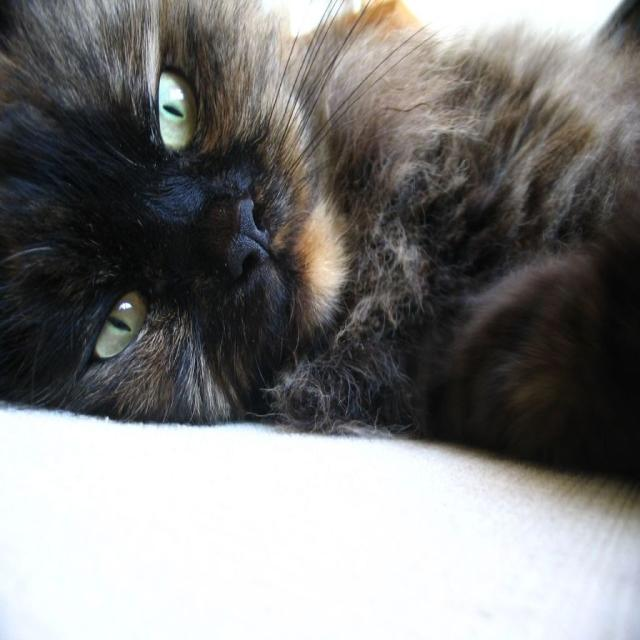Cat: (0, 0, 639, 476)
